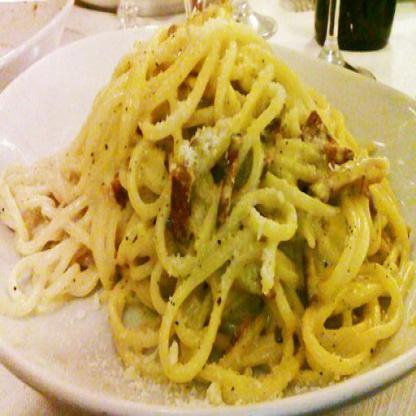pasta: (12, 19, 399, 398)
